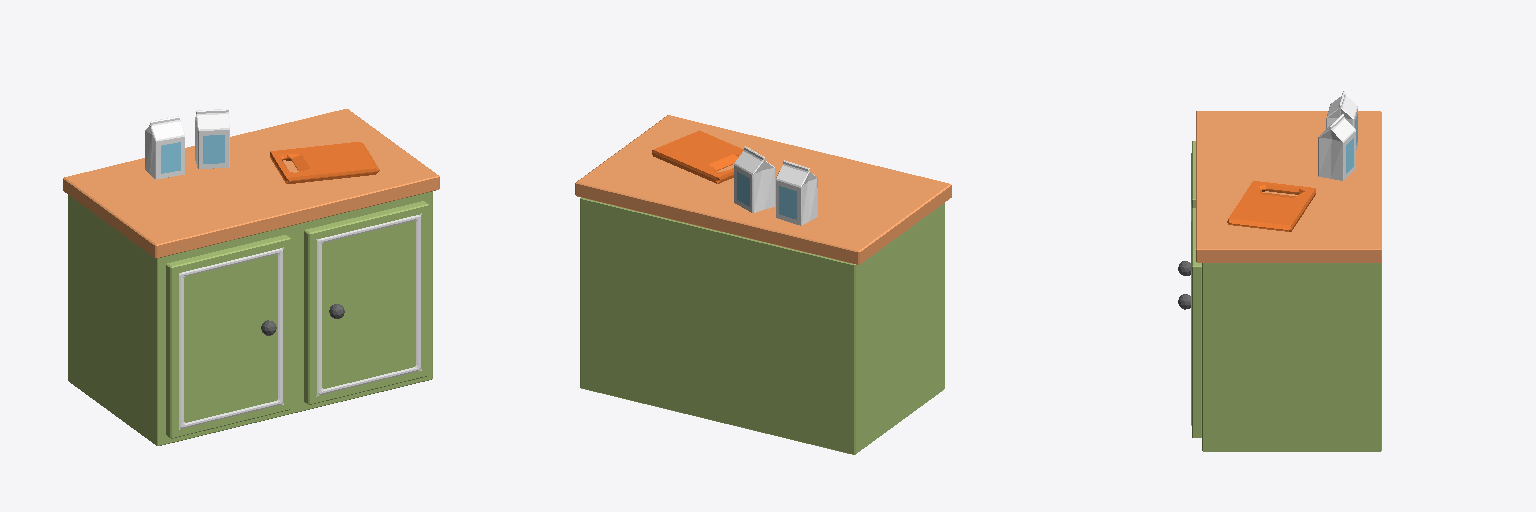
The model's file is green-kitchen6.obj.
3 renders of one model, left to right at view 1: azimuth 30°, elevation 25°; view 2: azimuth 150°, elevation 25°; view 3: azimuth 270°, elevation 25°, orthographic.
Parts seen in each view (by area): view 1: green_kitchen6:Counter1; view 2: green_kitchen6:Counter1; view 3: green_kitchen6:Counter1.
Boxes of the visible parts, <box> form: green_kitchen6:Counter1: <box>63,109,439,445</box>; green_kitchen6:Counter1: <box>575,115,951,454</box>; green_kitchen6:Counter1: <box>1178,91,1381,451</box>.
Size of the model in its own units: 219 by 189 by 135.